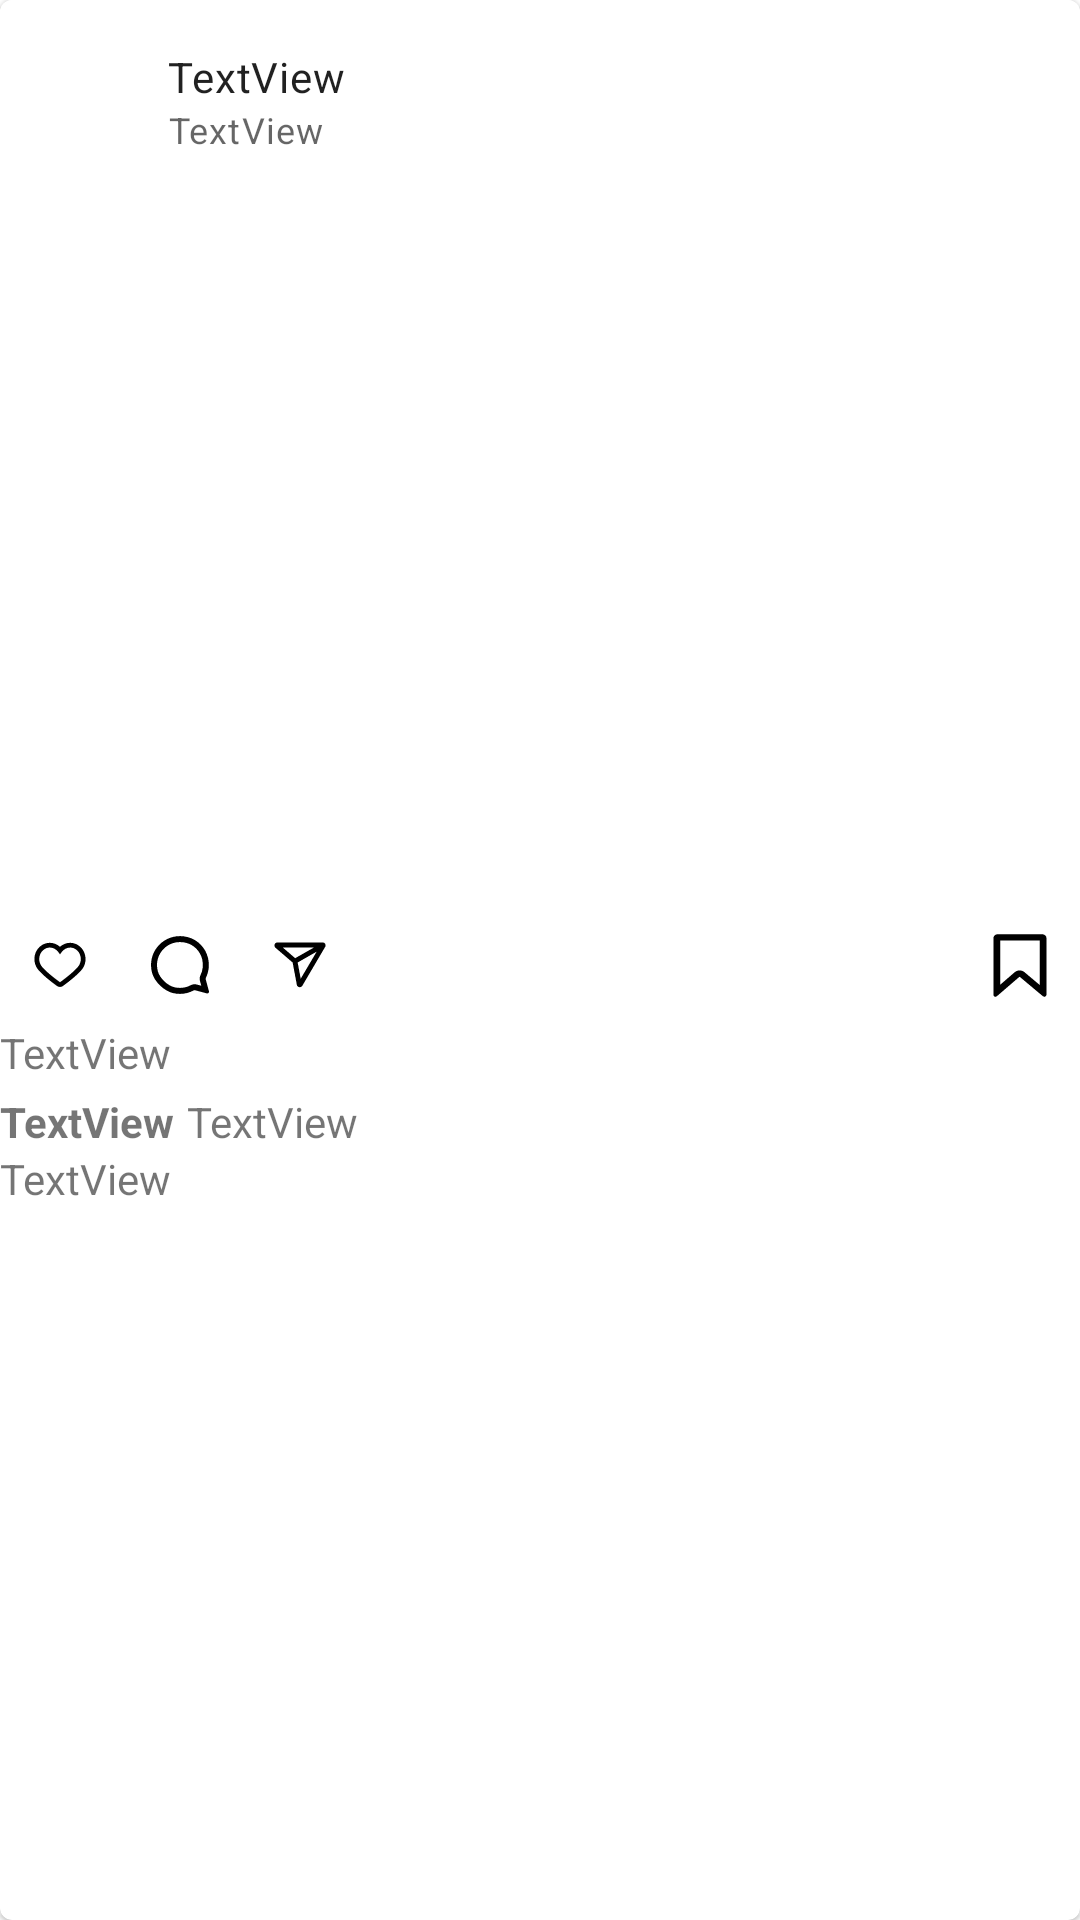

Icons on this 1080w x 1920h Android screen, each with the point to tap as point (x, y):
comment: point (180, 965)
heart: point (60, 964)
save: point (1020, 965)
